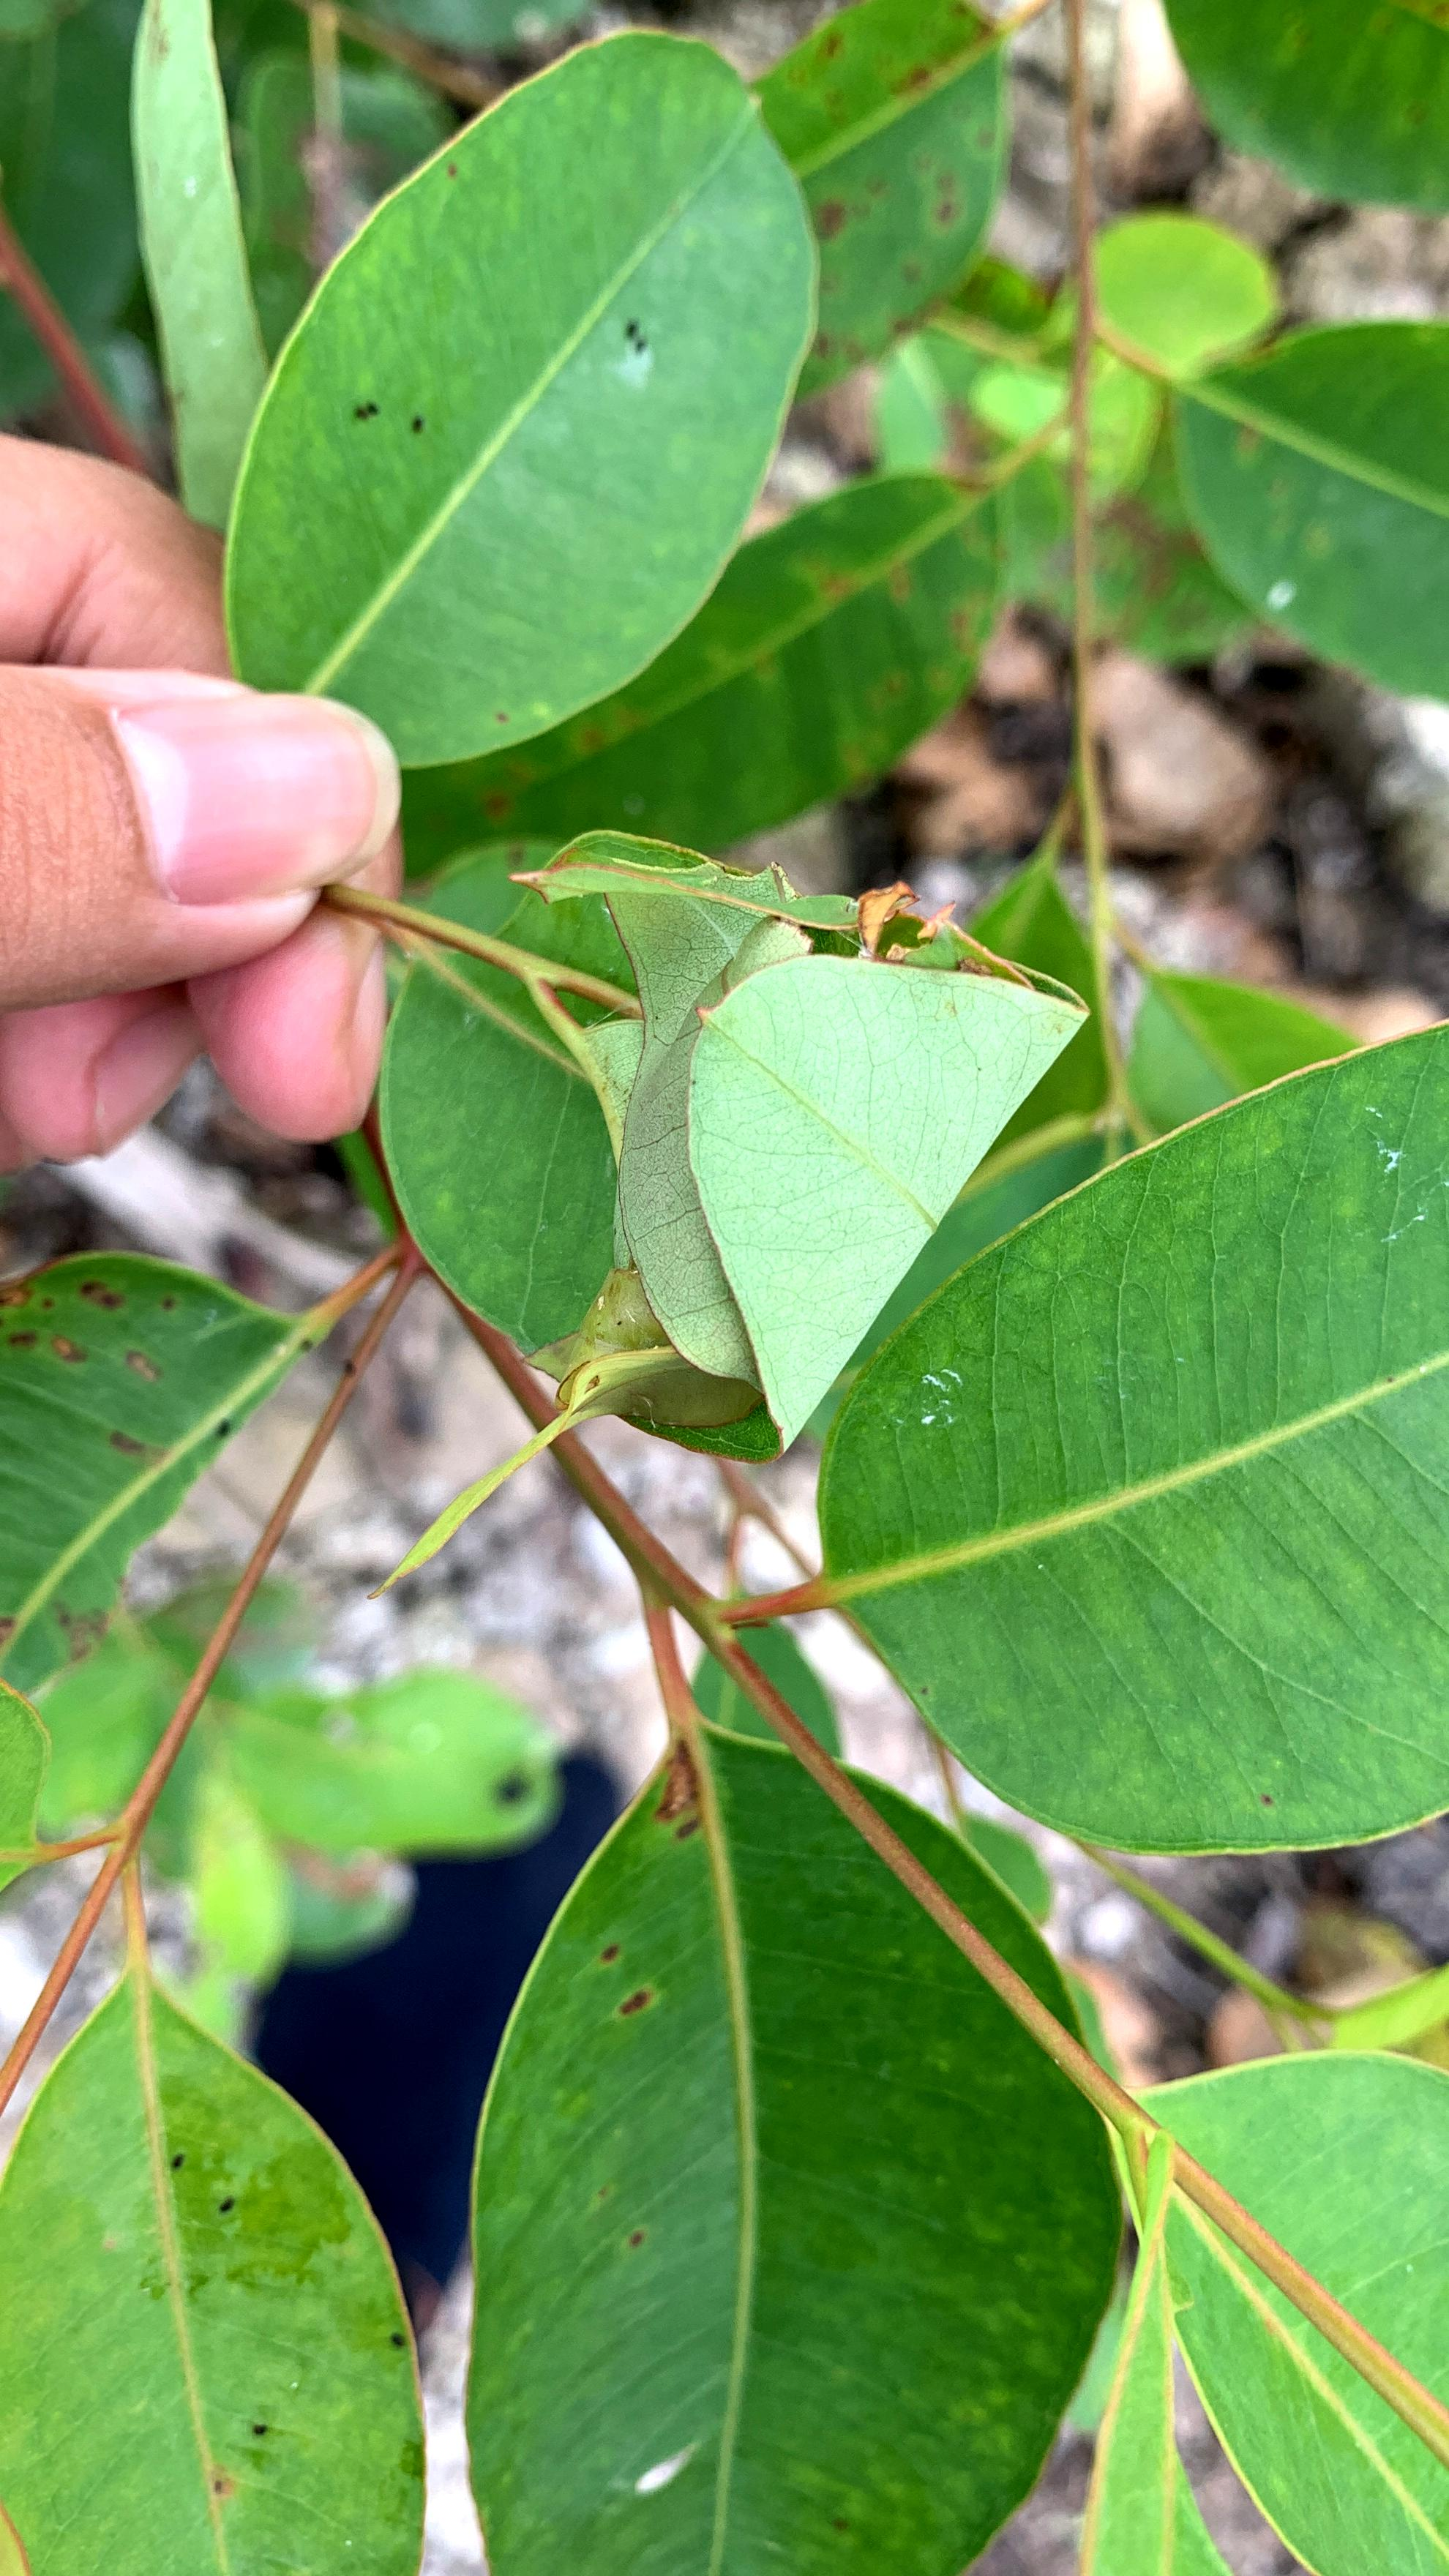Leaf Roller - Leaf: (476, 821, 1107, 1442)
